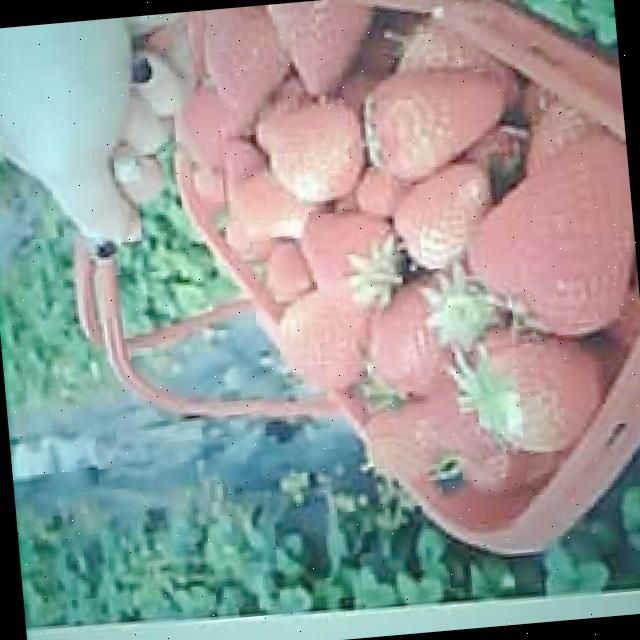strawberry: (460, 129, 640, 339), (365, 64, 513, 183), (272, 276, 373, 394), (389, 162, 495, 272)
